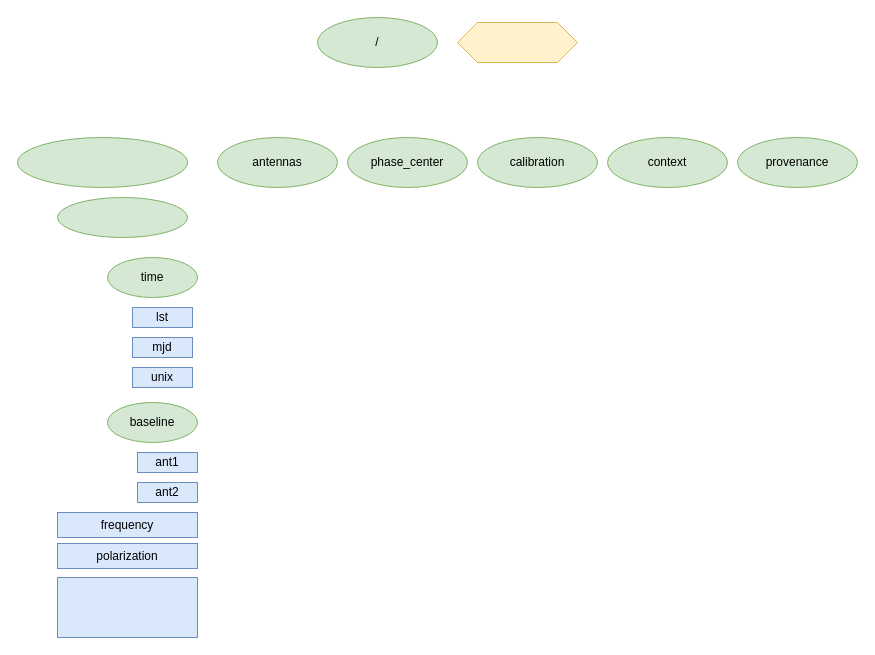
The diagram is 875 pixels wide and 655 high, and some of its shapes have lost their labels. The centre of each missing label's shape, as x and y in pixels:
"coords" goes at pixel 122 217.
"data" goes at pixel 127 607.
"visibilities" goes at pixel 102 162.
